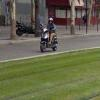Motorcycle: (31, 18, 61, 59)
